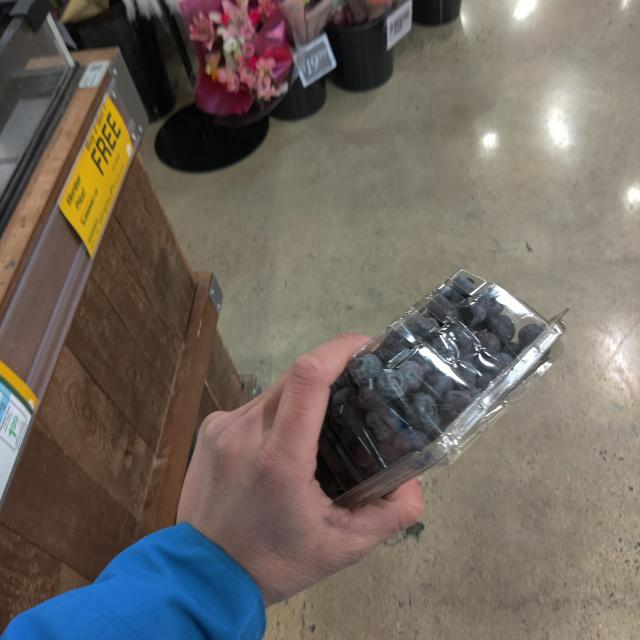Blueberries: (320, 275, 566, 514)
